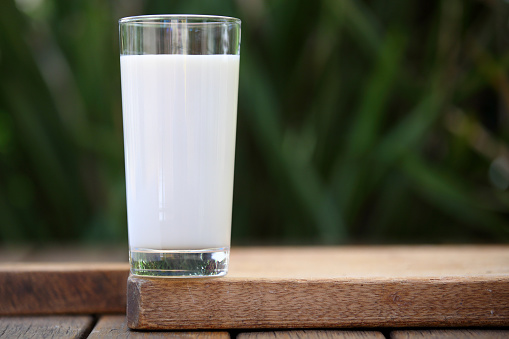glass of milk: (123, 23, 228, 264)
